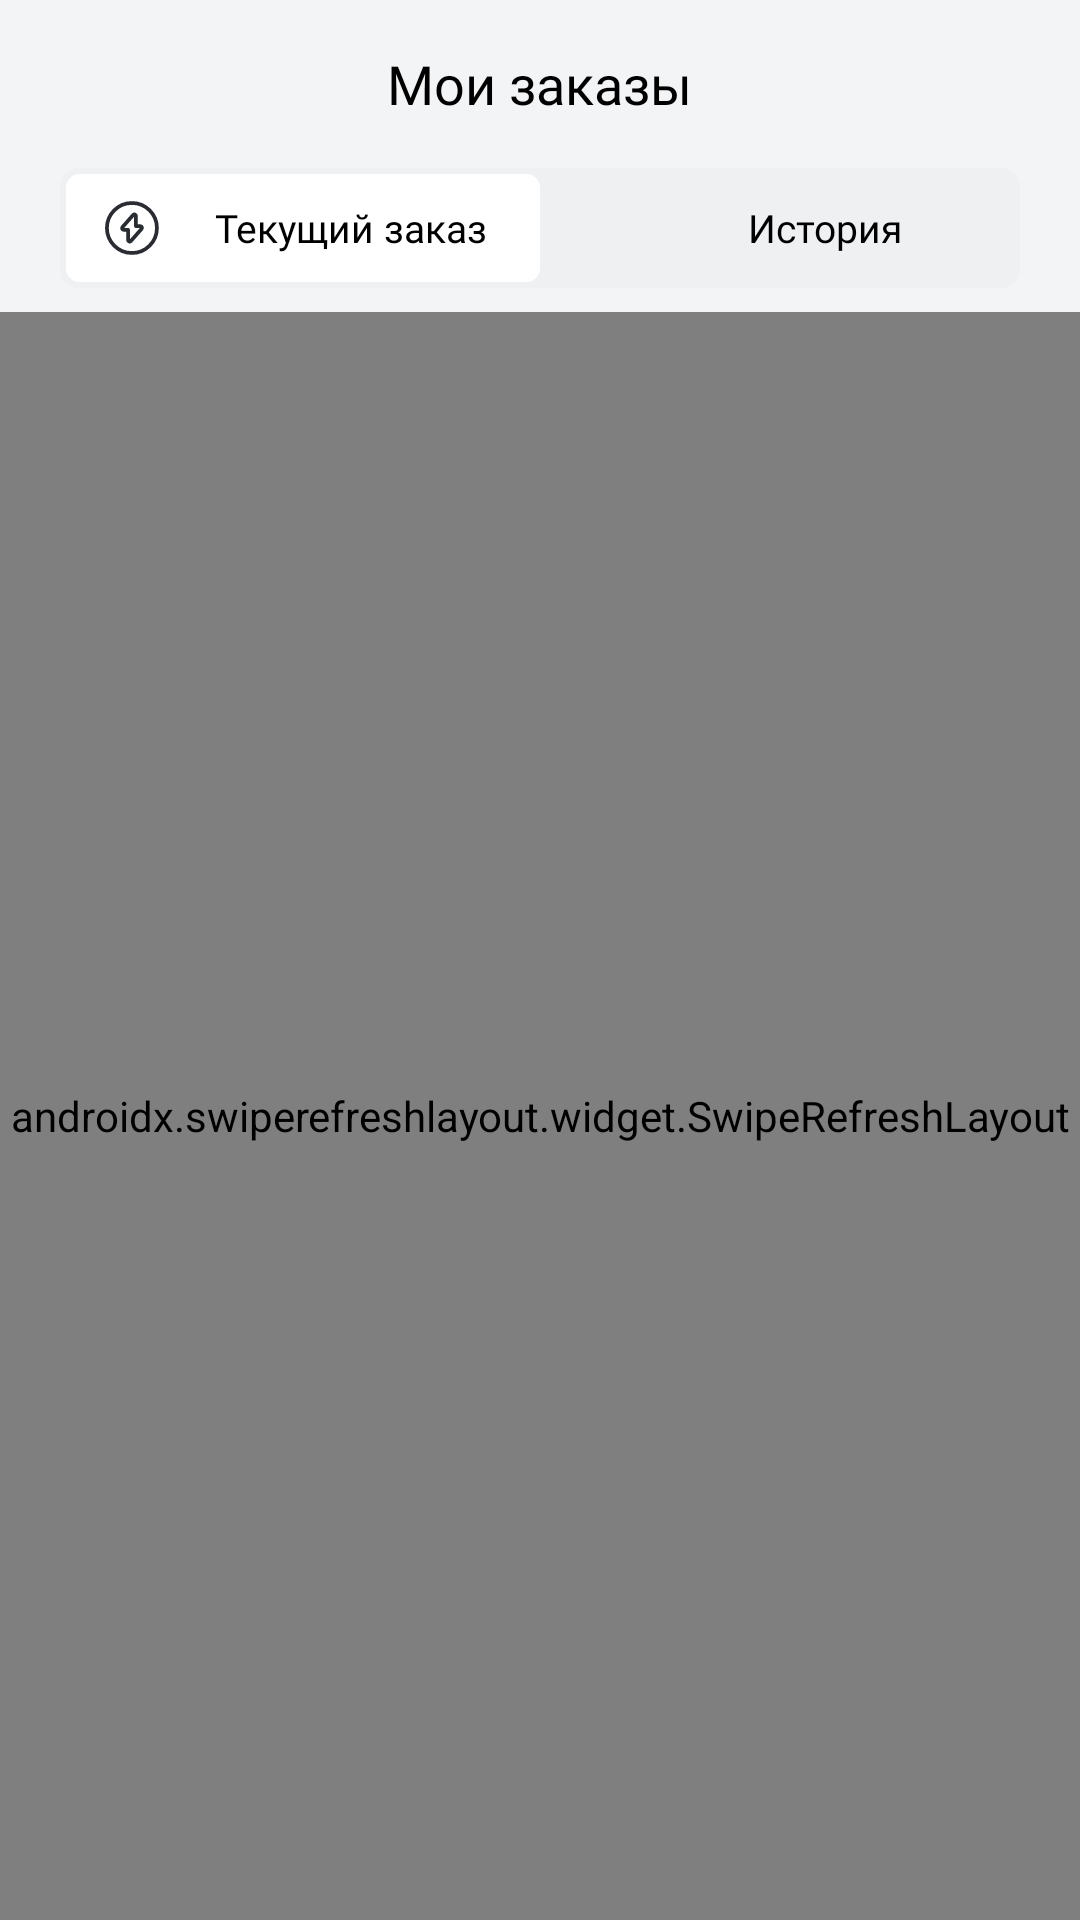

Named icons in this screenshot (1080×1920) and their bounding boxes, (x1=x1, y1=y1, x2=x2, y2=y2):
flash: (x1=105, y1=201, x2=159, y2=255)
